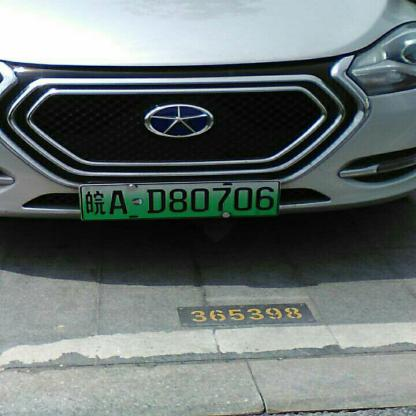lp: (81, 181, 279, 219)
